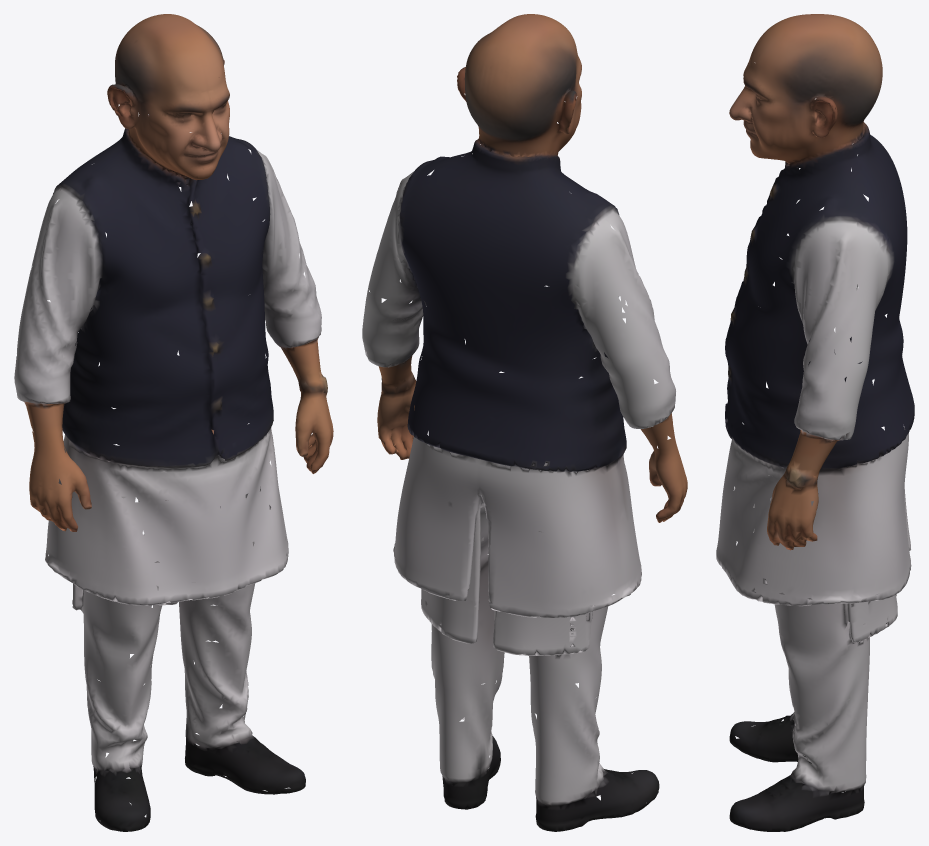
The model's file is rajnath.glb.
The picture shows the model from 3 angles, left to right: view 1: azimuth 30°, elevation 25°; view 2: azimuth 150°, elevation 25°; view 3: azimuth 270°, elevation 25°; orthographic projection. The views are drawn at different scales.
Size of the model in its own units: 0.7416 by 1.82 by 0.426.
